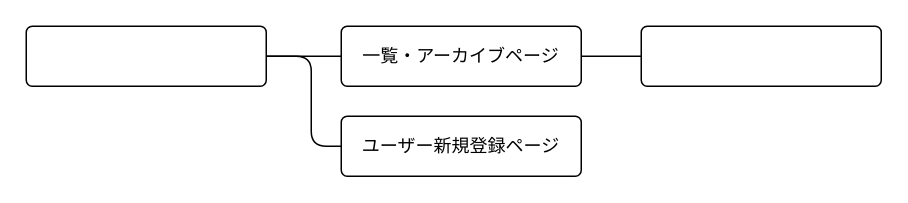
The diagram is 908 pixels wide and 203 high, and some of its shapes have lost their labels. The shapes that lost their labels are listed below. From the top down, each one's centre as x and y in pixels, then its label:
(x=145, y=55): ユーザーログインページ
(x=760, y=55): ユーザー編集ページ
